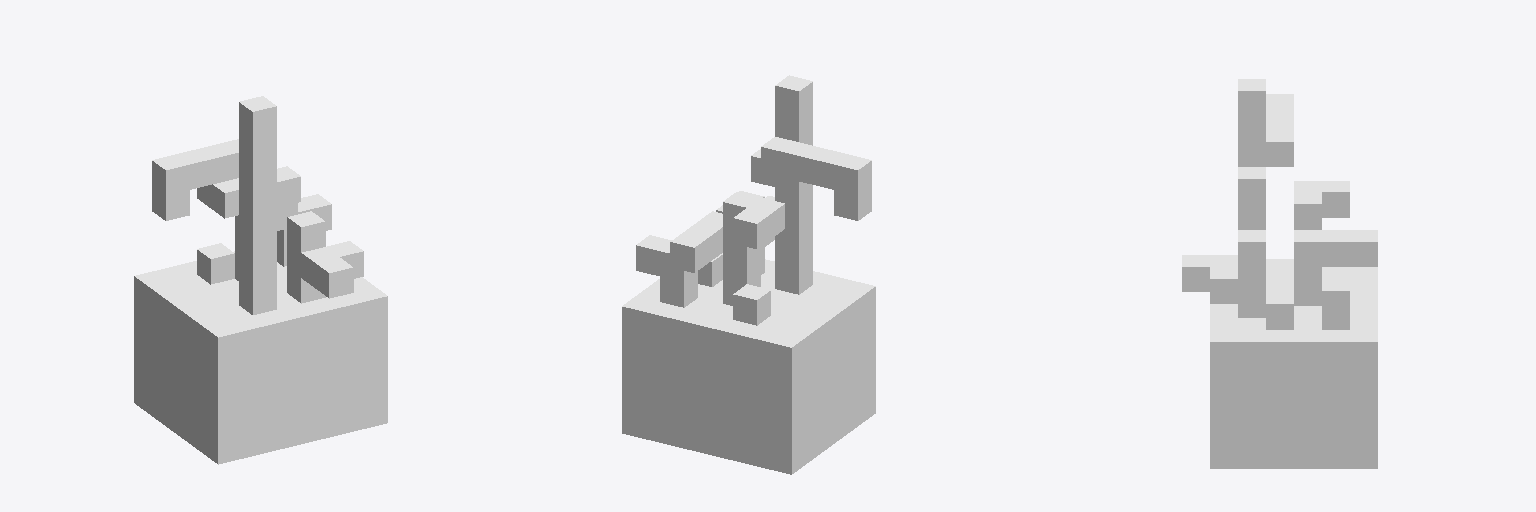
File: plant2.obj
3 renders of one model, left to right at view 1: azimuth 30°, elevation 25°; view 2: azimuth 150°, elevation 25°; view 3: azimuth 270°, elevation 25°, orthographic.
Bounding box in the file's own units: 0.4 × 0.65 × 0.35.